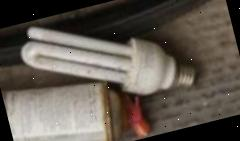lightbulb: (13, 0, 199, 124), (110, 22, 200, 102), (122, 91, 152, 139), (166, 58, 199, 90)
